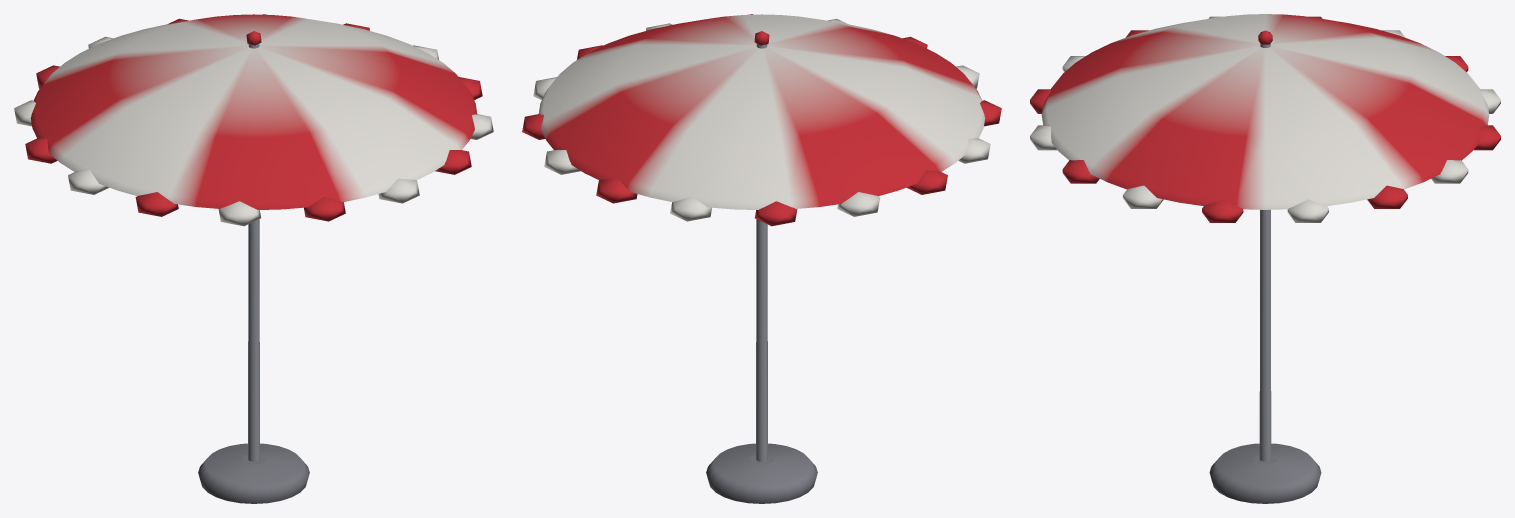
Rendered from furn_disp_umbrella.glb.
3 views of the same model, side by side, from view 1: azimuth 30°, elevation 25°; view 2: azimuth 150°, elevation 25°; view 3: azimuth 270°, elevation 25° (orthographic).
Parts seen in each view (by area): view 1: furn_disp_umbrella_main; view 2: furn_disp_umbrella_main; view 3: furn_disp_umbrella_main.
Boxes of the visible parts, x1,y1,x2,y2 form: furn_disp_umbrella_main: (14, 14, 493, 503); furn_disp_umbrella_main: (522, 14, 1001, 503); furn_disp_umbrella_main: (1030, 14, 1500, 503).
Bounding box in the file's own units: 1.94 × 2.05 × 1.94.
